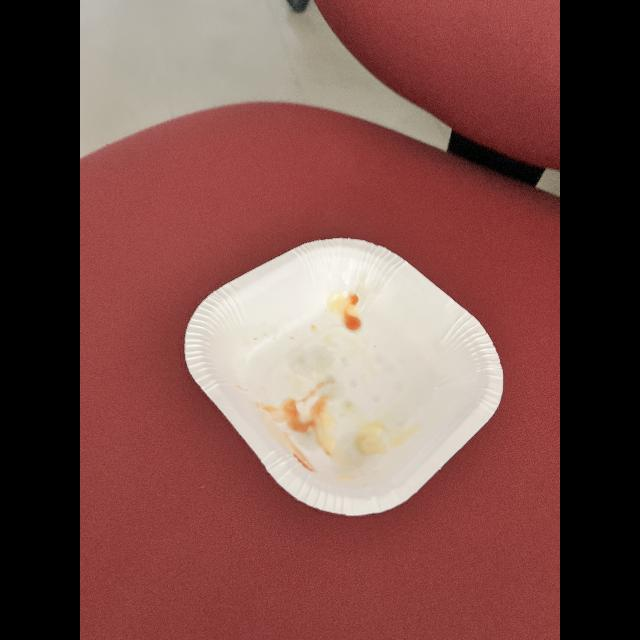cardboard_bowl: (167, 221, 528, 513)
